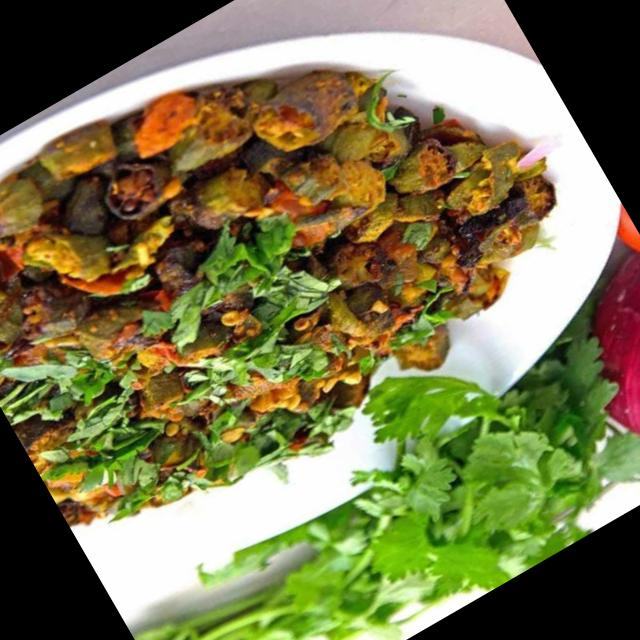BhindiMasala: (0, 0, 611, 567)
